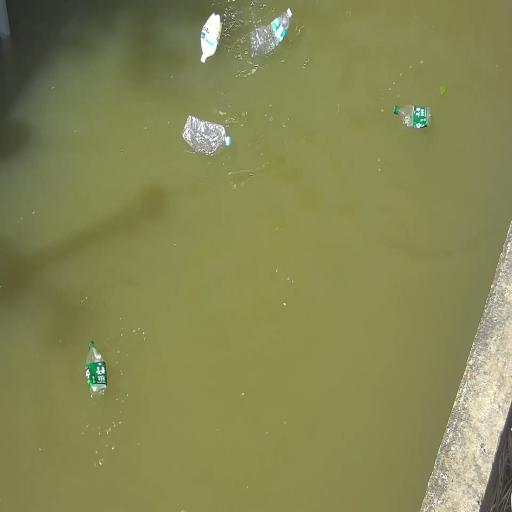plastic: (250, 8, 292, 59), (183, 115, 230, 155), (86, 342, 106, 396), (201, 13, 222, 63), (394, 106, 431, 128)
